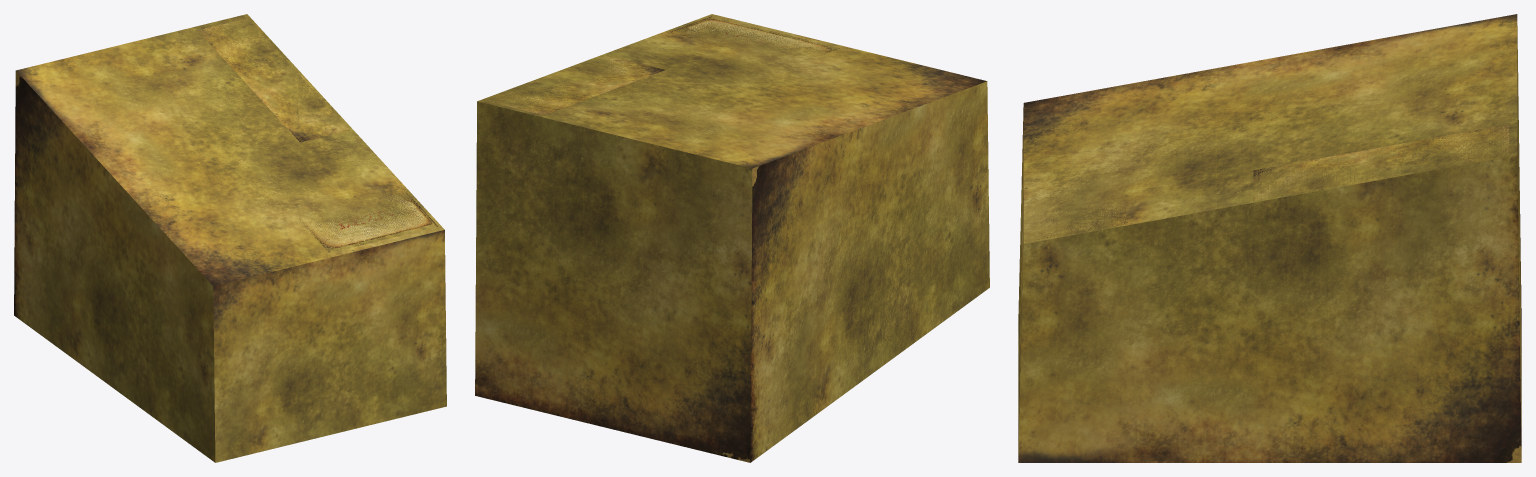
Rendered from PasswordTable.FBX.
3 views of the same model, side by side, from view 1: azimuth 30°, elevation 25°; view 2: azimuth 150°, elevation 25°; view 3: azimuth 270°, elevation 25° (orthographic). The views are drawn at different scales.
Parts seen in each view (by area): view 1: PasswordTable; view 2: PasswordTable; view 3: PasswordTable.
Boxes of the visible parts, box(x1,y1,x2,y2) form: PasswordTable: box(14, 14, 446, 462); PasswordTable: box(475, 14, 989, 462); PasswordTable: box(1018, 14, 1521, 462).
Bounding box in the file's own units: 283 × 287 × 426.
Materials: 1 (1 with a texture image).
